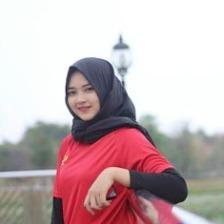Non Syar-i: (60, 55, 146, 144)
